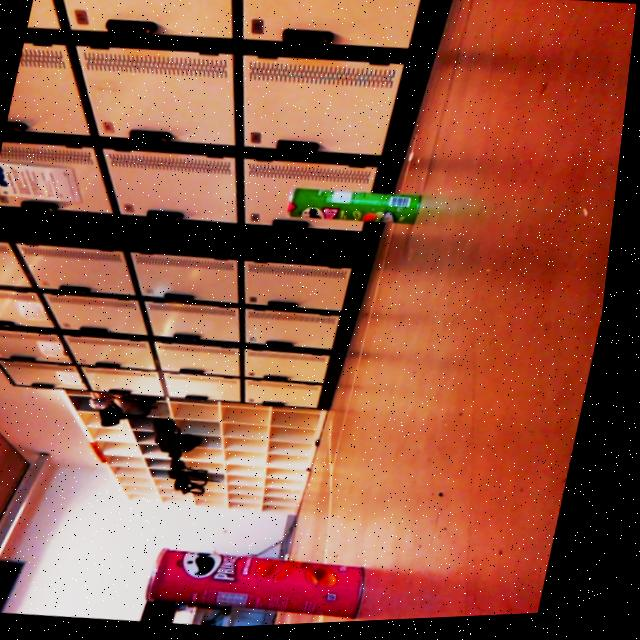greenpringles: (275, 176, 448, 239)
redpringles: (123, 528, 438, 634)
